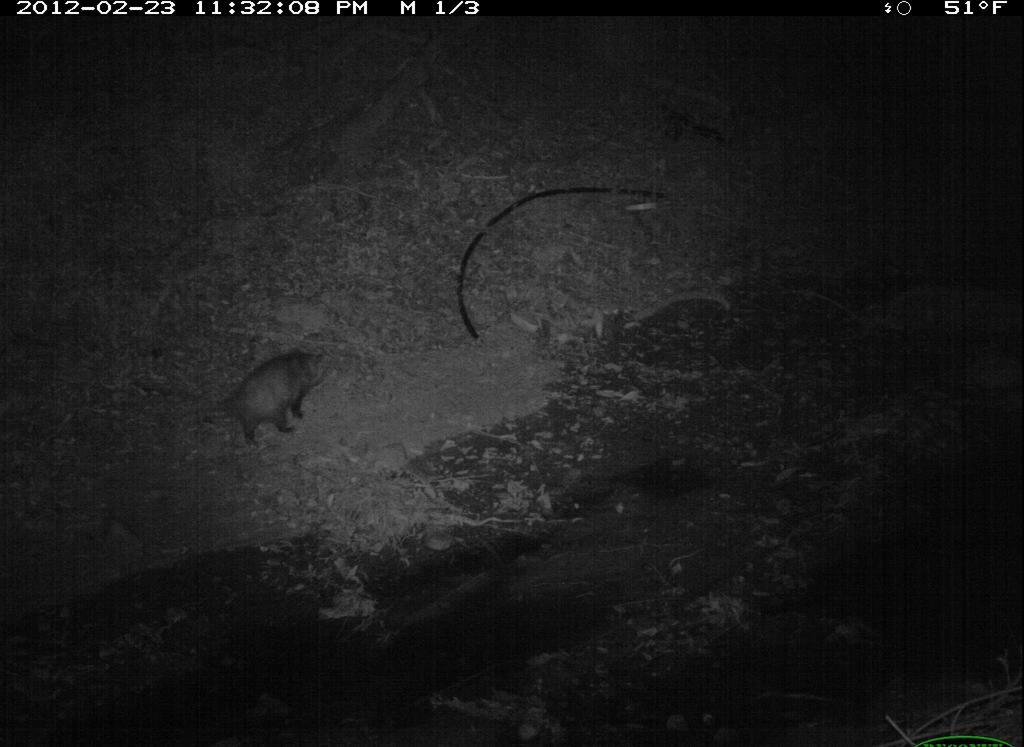opossum: (190, 341, 338, 456)
